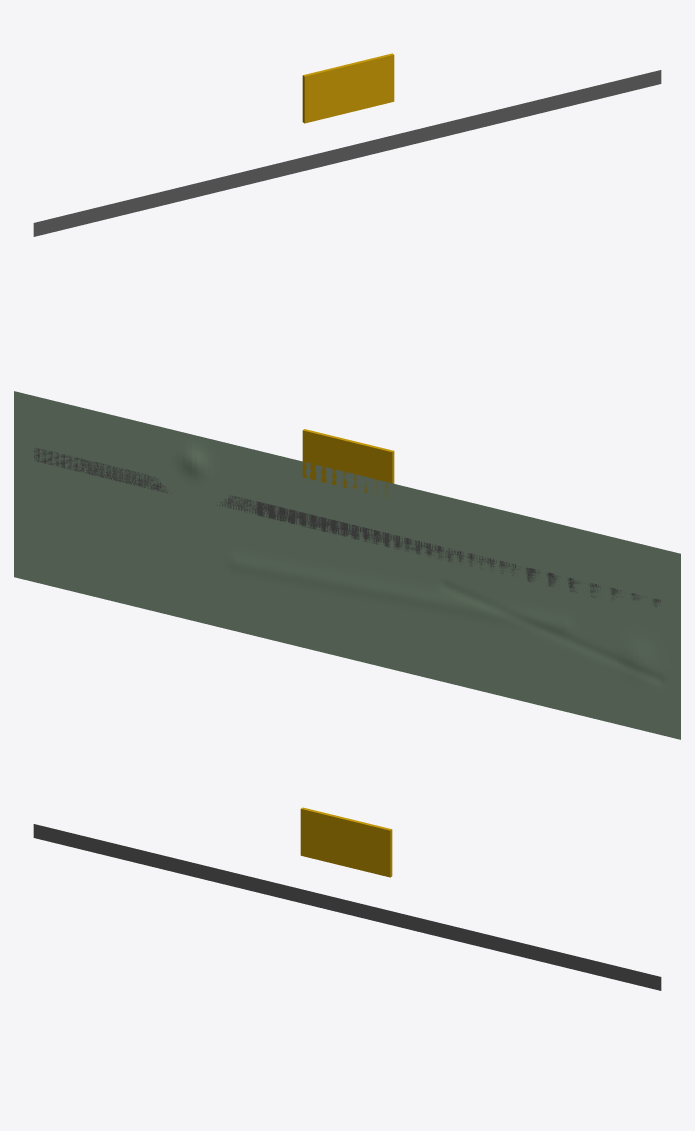
The model's file is final_airport_design.glb.
3 renders of one model, top to bottom at view 1: azimuth 30°, elevation 25°; view 2: azimuth 150°, elevation 25°; view 3: azimuth 330°, elevation 25°, orthographic.
Parts seen in each view (by area): view 1: world; view 2: world; view 3: world.
Part boxes in pixels (bbox=[...]): world: bbox=[33, 53, 661, 236]; world: bbox=[14, 391, 680, 739]; world: bbox=[33, 807, 661, 990].
Bounding box in the file's own units: 2977 × 926 × 21.6.
